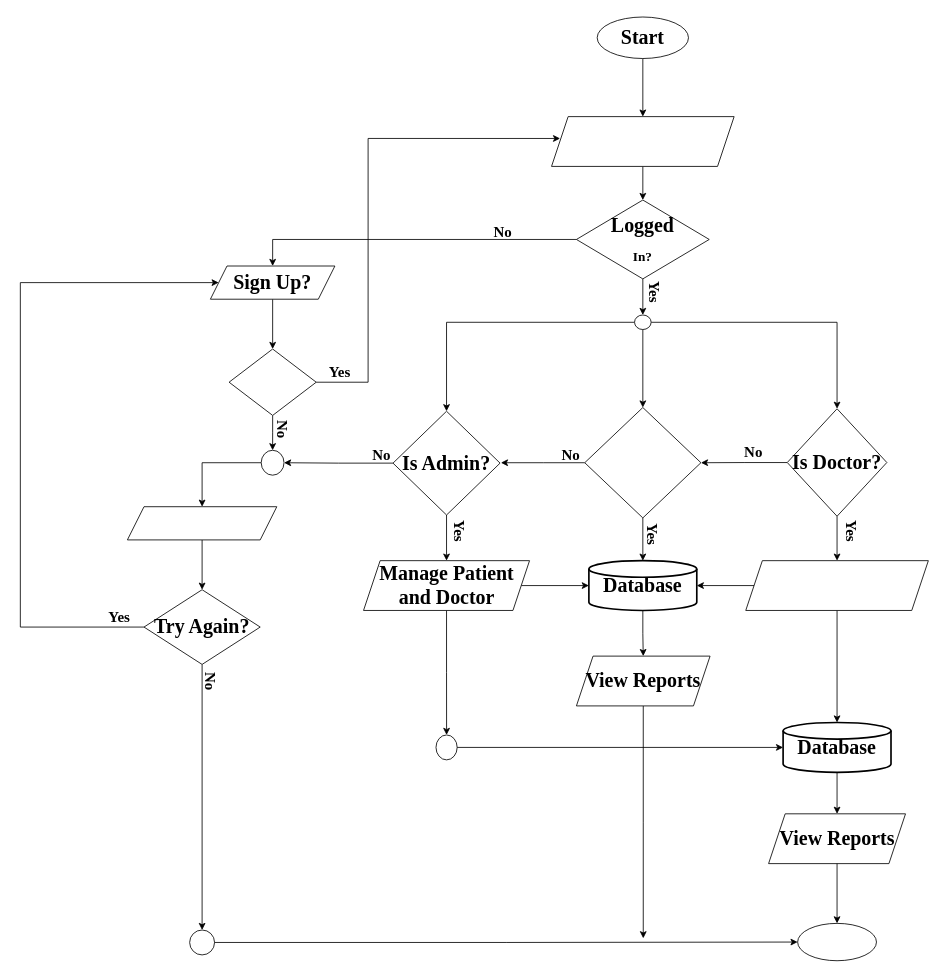
The diagram is 943 pixels wide and 980 high, and some of its shapes have lost their labels. Each missing label, with the centre of its shape:
End: the point at 836,942
Is Patient?: the point at 642,462
Manage Patient's and own record: the point at 836,585
Not Valid User: the point at 202,523
Success?: the point at 272,381
Welcome Interface: the point at 642,141
